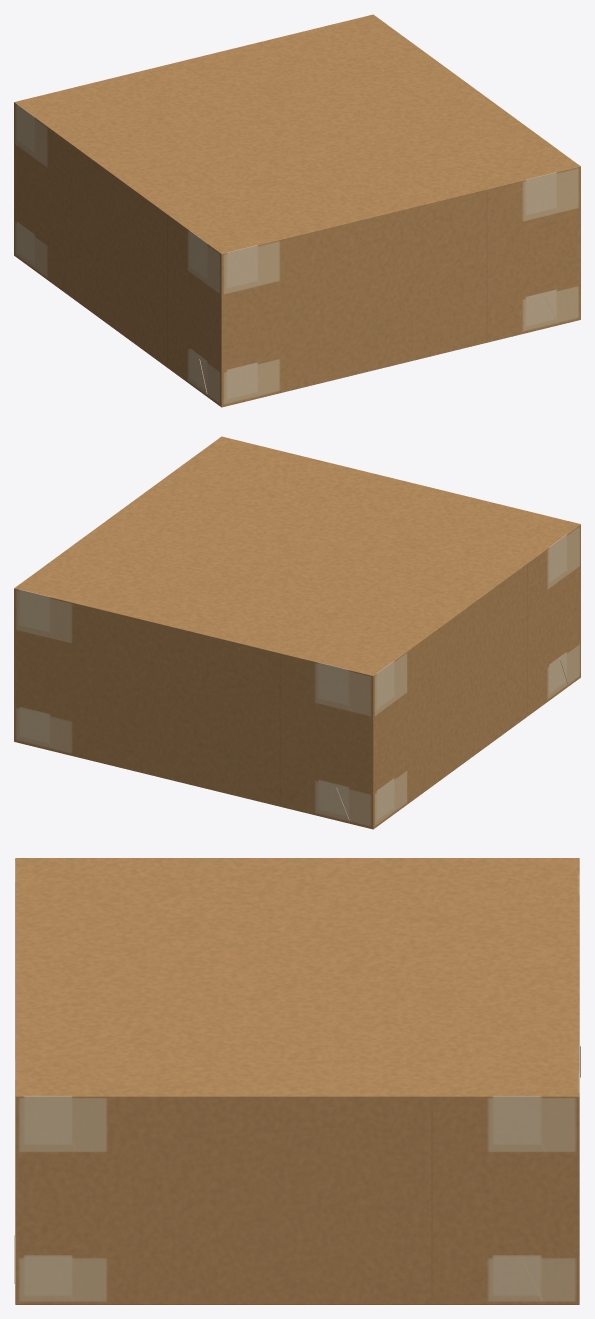
The model's file is 29-clock-body.fbx.
3 renders of one model, top to bottom at view 1: azimuth 30°, elevation 25°; view 2: azimuth 150°, elevation 25°; view 3: azimuth 270°, elevation 25°, orthographic. The views are drawn at different scales.
Visible parts, largest first — view 1: clock-body; view 2: clock-body; view 3: clock-body.
Boxes of the visible parts, x1,y1,x2,y2 form: clock-body: [14, 14, 580, 407]; clock-body: [14, 436, 580, 829]; clock-body: [14, 858, 580, 1304].
Bounding box in the file's own units: 14270 × 5800 × 14270.
Materials: 1 (1 with a texture image).
